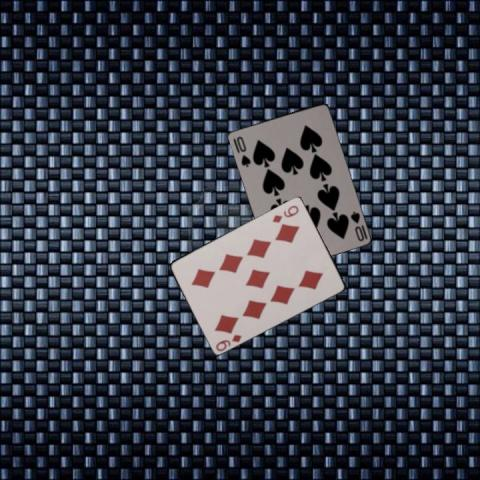10s: (233, 133, 252, 168), (347, 208, 366, 243)
9d: (269, 202, 300, 224), (213, 331, 243, 353)
